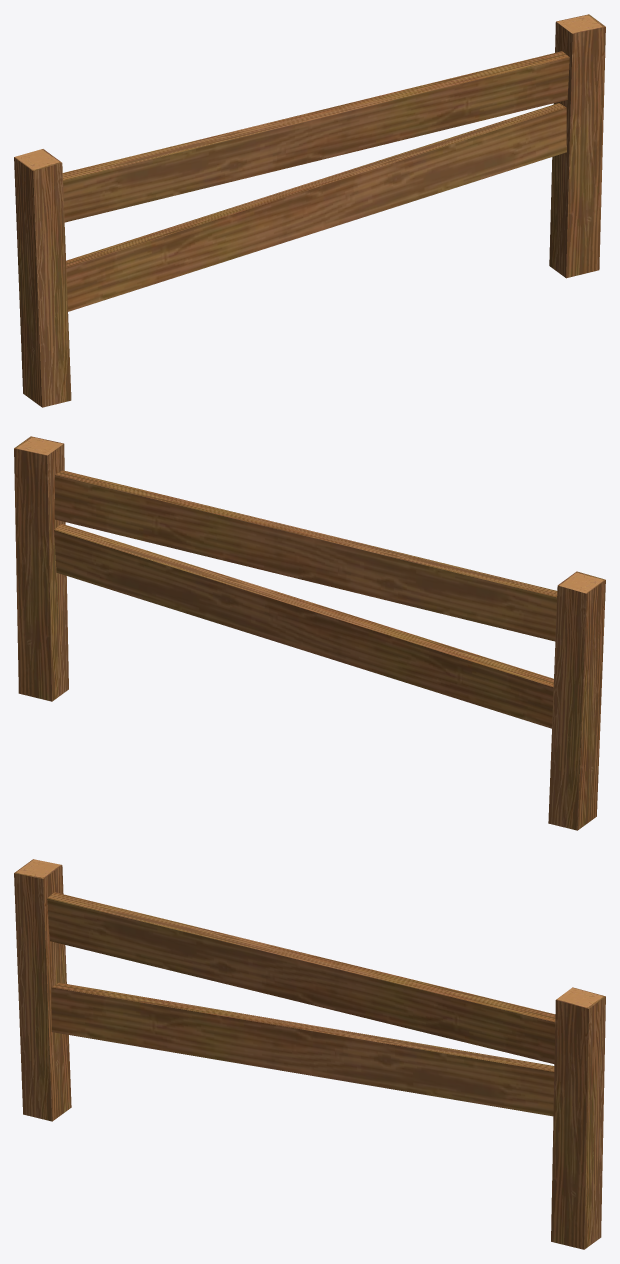
Rendered from Prop_WoodenFence_Single.glb.
The picture shows the model from 3 angles, top to bottom: view 1: azimuth 30°, elevation 25°; view 2: azimuth 150°, elevation 25°; view 3: azimuth 330°, elevation 25°; orthographic projection.
Parts seen in each view (by area): view 1: Prop_WoodenFence_Single; view 2: Prop_WoodenFence_Single; view 3: Prop_WoodenFence_Single.
Part boxes in pixels (x1,y1,x2,y2): Prop_WoodenFence_Single: (14, 14, 605, 407); Prop_WoodenFence_Single: (14, 436, 605, 830); Prop_WoodenFence_Single: (14, 859, 605, 1249).
Size of the model in its own units: 2.06 by 0.8381 by 0.1197.
Materials: 1 (1 with a texture image).
